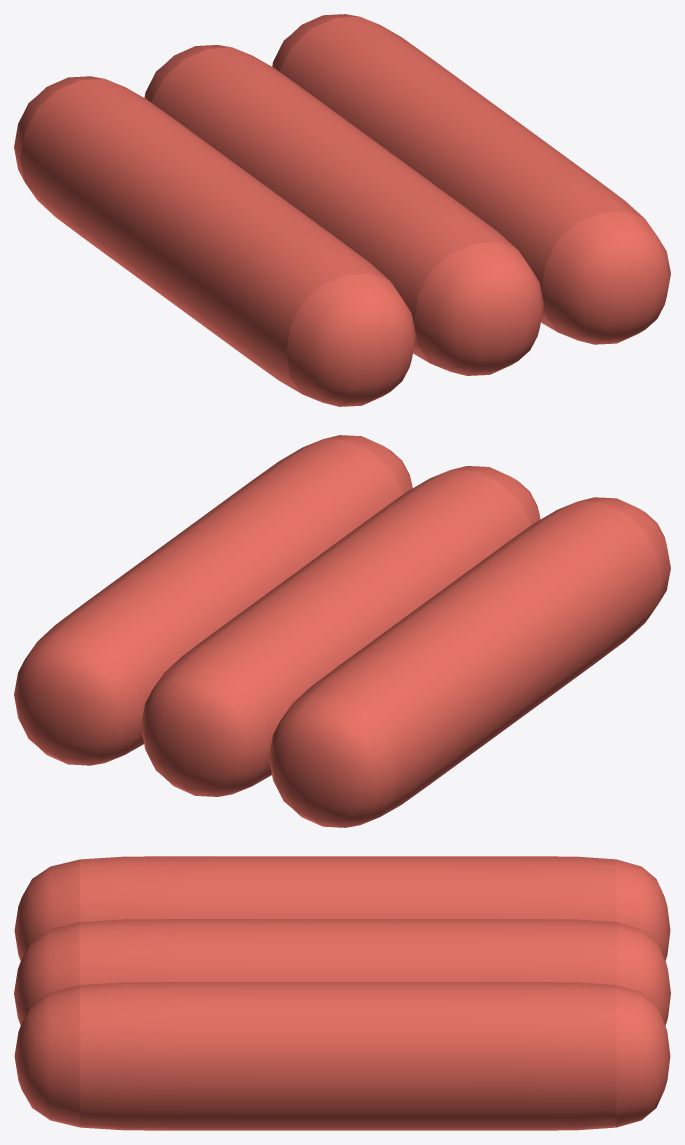
File: Hotdogs.fbx
The picture shows the model from 3 angles, top to bottom: view 1: azimuth 30°, elevation 25°; view 2: azimuth 150°, elevation 25°; view 3: azimuth 270°, elevation 25°; orthographic projection.
Parts seen in each view (by area): view 1: Hotdog1; view 2: Hotdog1; view 3: Hotdog1.
Part boxes in pixels (x1,y1,x2,y2): Hotdog1: [14, 14, 670, 406]; Hotdog1: [14, 435, 670, 827]; Hotdog1: [14, 856, 670, 1130].
Bounding box in the file's own units: 1.2 × 1.77 × 0.3973.
